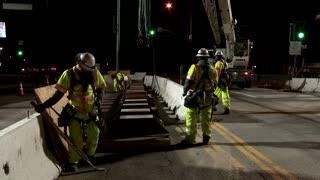Vest: (64, 68, 100, 110), (187, 63, 219, 93)
